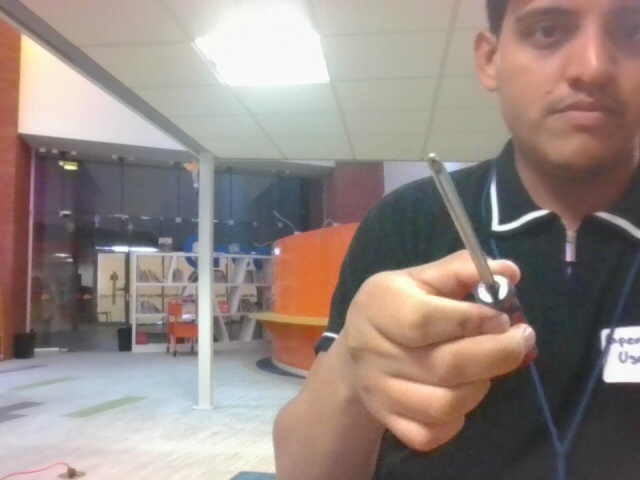destornillador: (427, 152, 541, 371)
